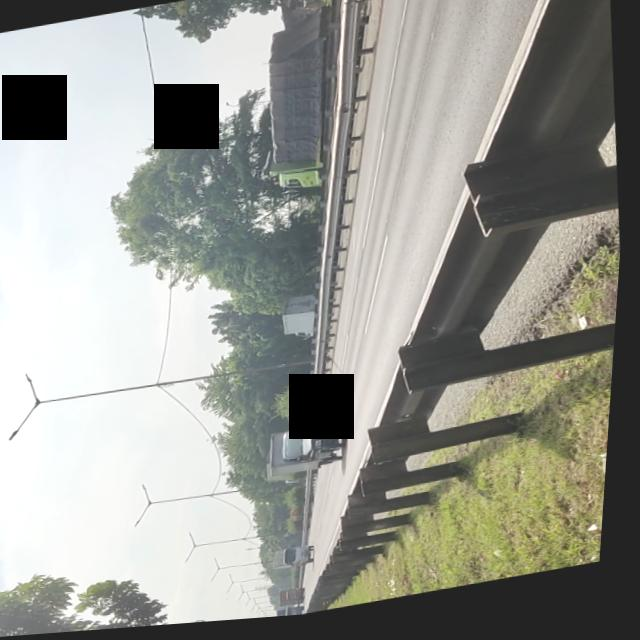Golongan I: (262, 409, 362, 489)
